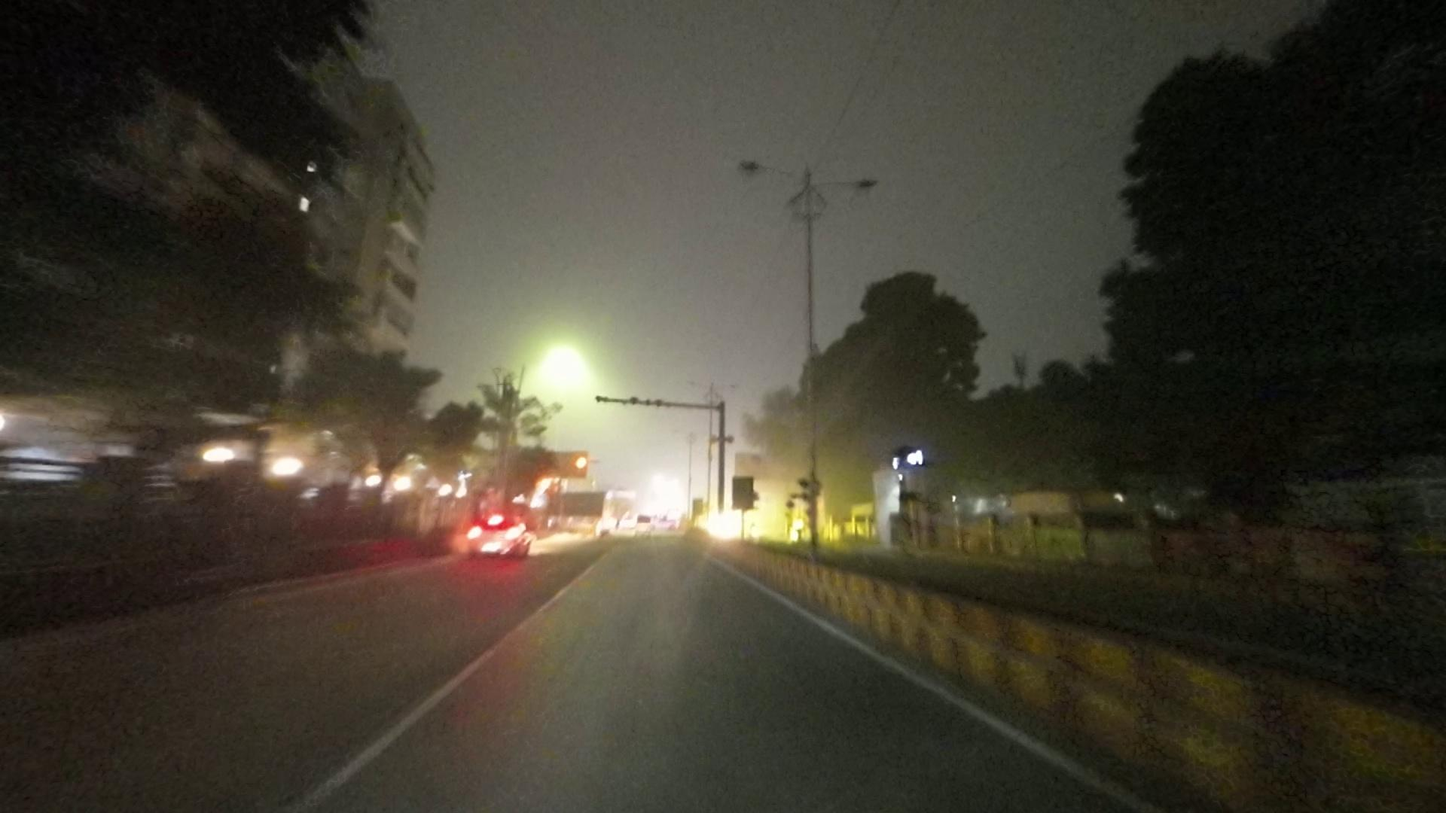streetlight: (736, 158, 802, 186), (818, 175, 879, 193)
